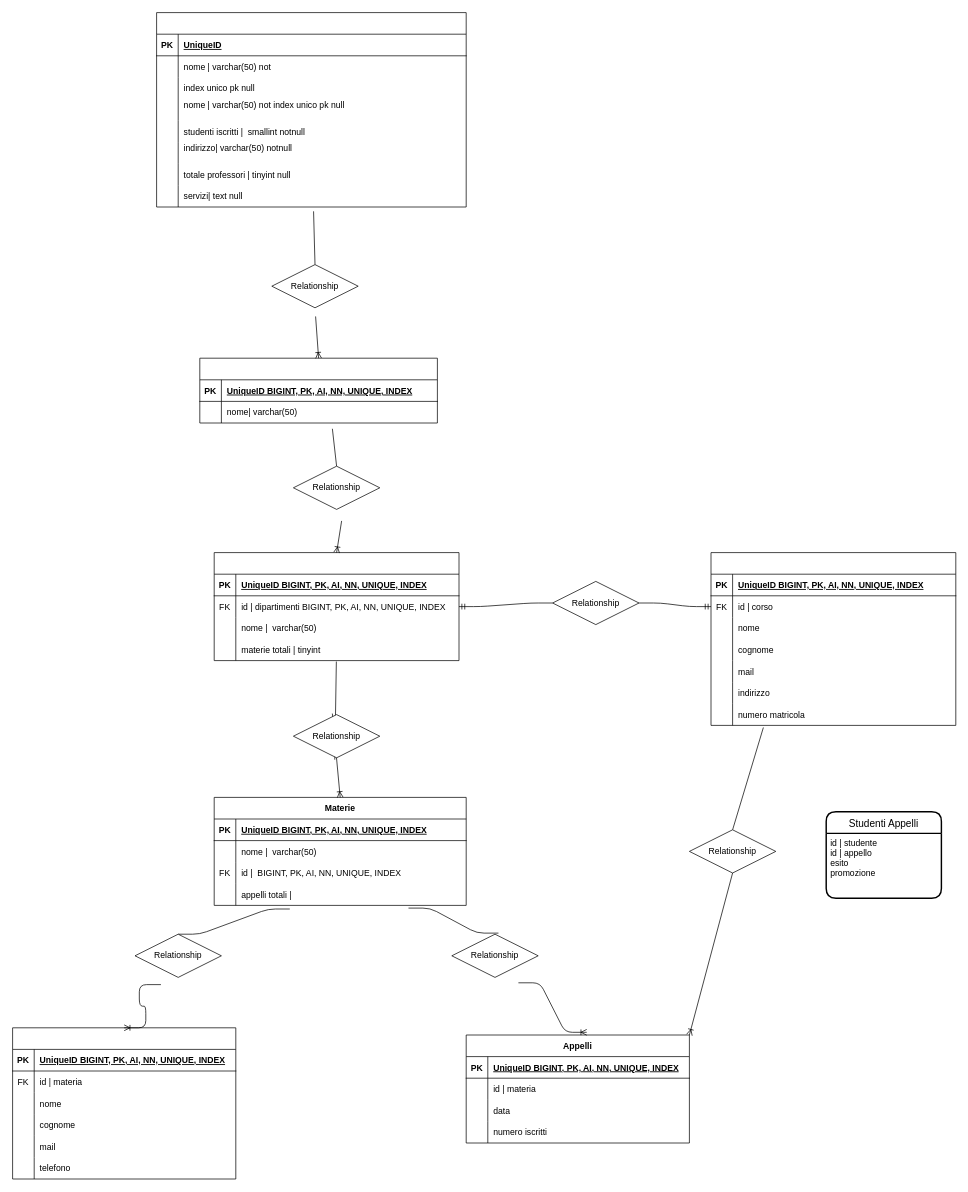
Image size: 968x1192. Some labels were removed from this diagram. Each missing label, with the box of its shape:
Corsi di laurea: (213, 552, 459, 661)
dipartimenti: (199, 357, 437, 423)
Insegnanti: (12, 1027, 236, 1179)
Studenti: (710, 552, 956, 725)
universita: (156, 12, 466, 207)
